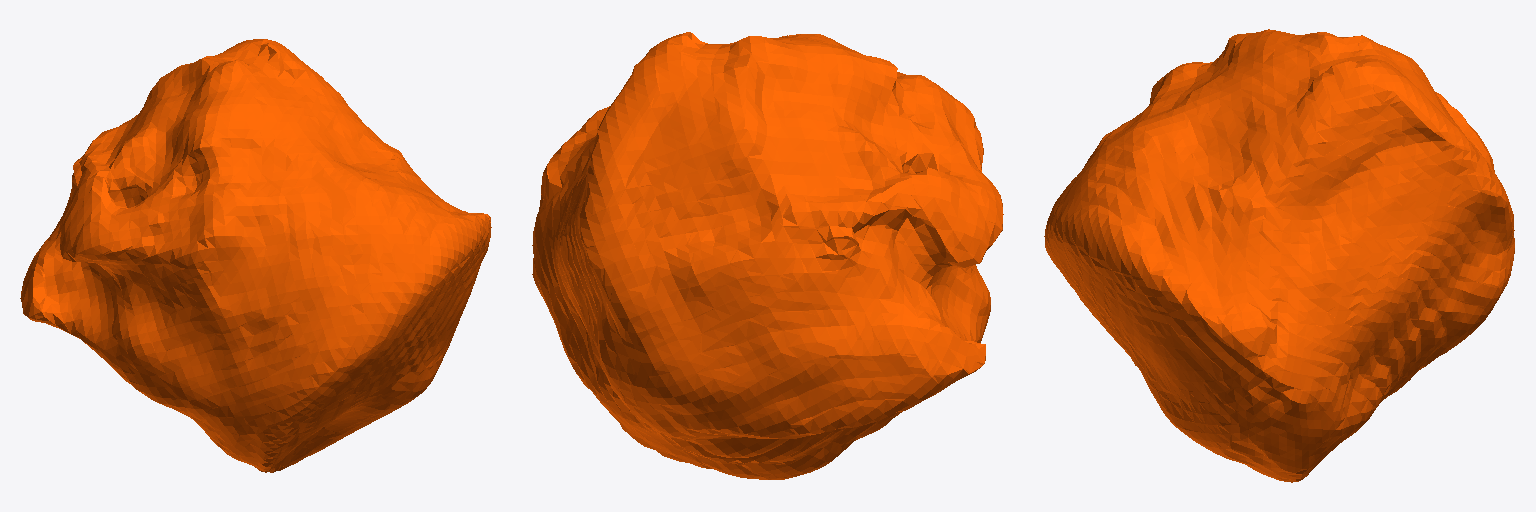
The robot description file, URDF, robot "524dcb8d4":
<?xml version="1.0" ?>
<robot name="524dcb8d4">
   <material name="obj_color">
      <color rgba="1.0 0.423529411765 0.0392156862745 1.0"/>
   </material>
   <link name="top">
      <inertial>
         <origin rpy="0.0005740735261871098 0.0006877308008993829 0.0007034195380480146" xyz="0.001251742263130639 0.0004894189630971936 0.0004523827028310168"/>
         <mass value="0.5770800178959714"/>
         <inertia ixx="0.0006528736427093493" ixy="4.849611906734498e-05" ixz="3.043071823785913e-05" iyy="0.0006272526323635312" iyz="-2.940020466217841e-05" izz="0.000685097590061626"/>
      </inertial>
      <visual>
         <origin rpy="0 0 0" xyz="0 0 0"/>
         <geometry>
            <mesh filename="top_watertight_tiny.stl" scale="1 1 1"/>
         </geometry>
         <material name="obj_color"/>
      </visual>
      <collision>
         <origin rpy="0 0 0" xyz="0 0 0"/>
         <geometry>
            <mesh filename="top_watertight_tiny.obj" scale="1 1 1"/>
         </geometry>
      </collision>
   </link>
   <link name="bottom">
      <inertial>
         <origin rpy="1.633333333199431e-08 1.633333333199431e-08 1.633333333362855e-08" xyz="0.3464080000000008 0.3464080000000008 0.3464080000000008"/>
         <mass value="0.0009800000000000017"/>
         <inertia ixx="1.633333333253906e-08" ixy="5.447480642029219e-19" ixz="5.447480642029219e-19" iyy="1.633333333253906e-08" iyz="5.447480642029219e-19" izz="1.633333333253906e-08"/>
      </inertial>
      <visual>
         <origin rpy="0 0 0" xyz="0 0 0"/>
         <geometry>
            <mesh filename="bottom_watertight_tiny.stl" scale="1 1 1"/>
         </geometry>
         <material name="obj_color"/>
      </visual>
   </link>
   <joint name="rotation" type="revolute">
      <origin xyz="0 0 0"/>
      <axis xyz="0 0 -1"/>
      <parent link="bottom"/>
      <child link="top"/>
      <dynamics damping="1.0" friction="1.0"/>
      <limit effort="0.1" velocity="0.1" lower="0" upper="0.001"/>
   </joint>
</robot>

--- What the picture shows (computed from the rendered views, not written in the file) ---
Views: 3 orthographic renders of the robot side by side, from view 1: azimuth 30°, elevation 25°; view 2: azimuth 150°, elevation 25°; view 3: azimuth 270°, elevation 25°.
Robot: 524dcb8d4 — 2 links, 1 joints (1 revolute); root link bottom; default pose: every joint at zero.
Visible links, largest first — view 1: top; view 2: top; view 3: top.
Link boxes in pixels (left/top/right/bottom): top: left=20, top=39, right=491, bottom=472; top: left=532, top=32, right=1003, bottom=479; top: left=1044, top=29, right=1514, bottom=482.
Bounding box of the posed robot: 0.1262 × 0.1187 × 0.1142 m (x, y, z).
Meshes: 2 distinct files referenced, 1 mesh visuals loaded (1 binary STL); not drawn: 1 (reference not matched to a file when rendering).
